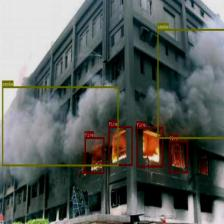fire: (136, 127, 162, 167), (108, 126, 132, 165), (85, 137, 104, 173), (169, 140, 188, 173)
smoke: (2, 86, 118, 166), (157, 29, 224, 138)
